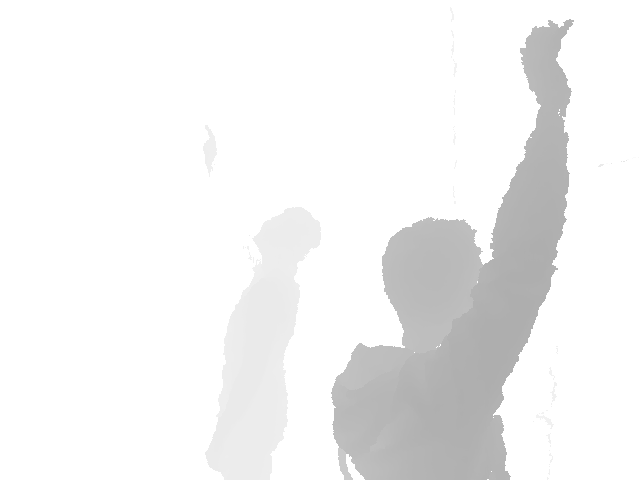hand: (519, 20, 575, 116), (200, 124, 217, 178)
head: (381, 218, 489, 348), (254, 205, 320, 269)
person: (331, 20, 575, 479), (198, 124, 321, 480)
